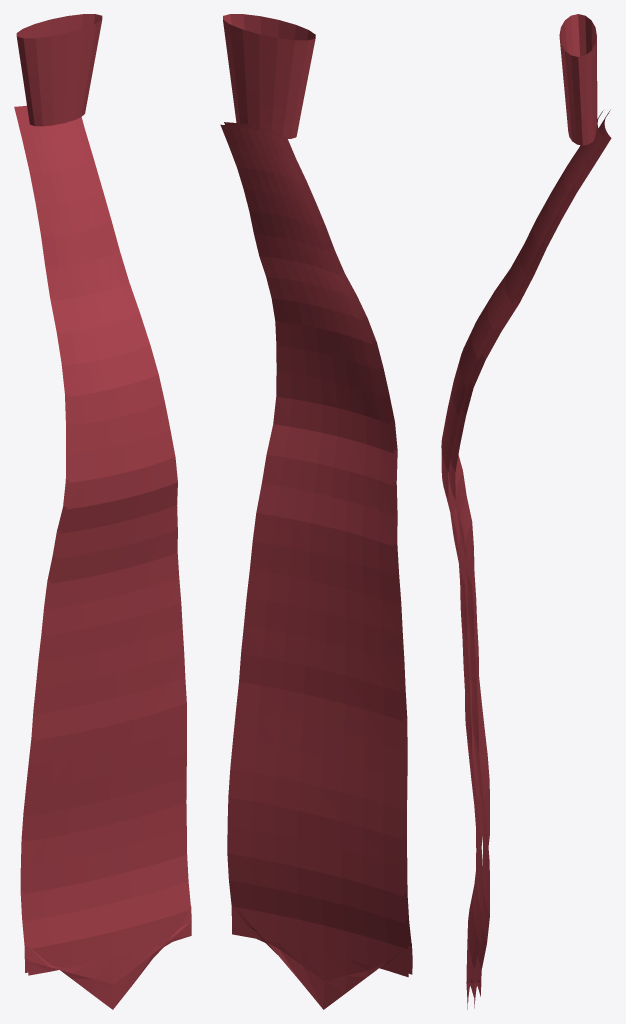
File: ewb_tie.glb
3 views of the same model, side by side, from view 1: azimuth 30°, elevation 25°; view 2: azimuth 150°, elevation 25°; view 3: azimuth 270°, elevation 25° (orthographic). The views are drawn at different scales.
Visible parts, largest first — view 1: ewb_tie; view 2: ewb_tie; view 3: ewb_tie.
Boxes of the visible parts, left/top/right/bottom form: ewb_tie: left=14, top=14, right=191, bottom=1009; ewb_tie: left=220, top=14, right=412, bottom=1009; ewb_tie: left=441, top=14, right=611, bottom=1009.
Size of the model in its own units: 0.084 by 0.4646 by 0.0735.
